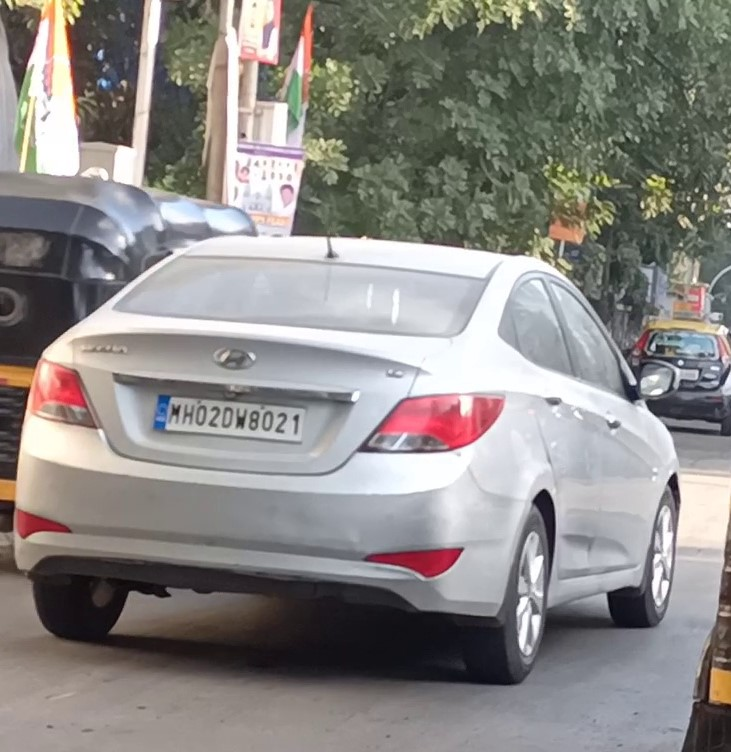MH02DW8021: (152, 391, 305, 446)
